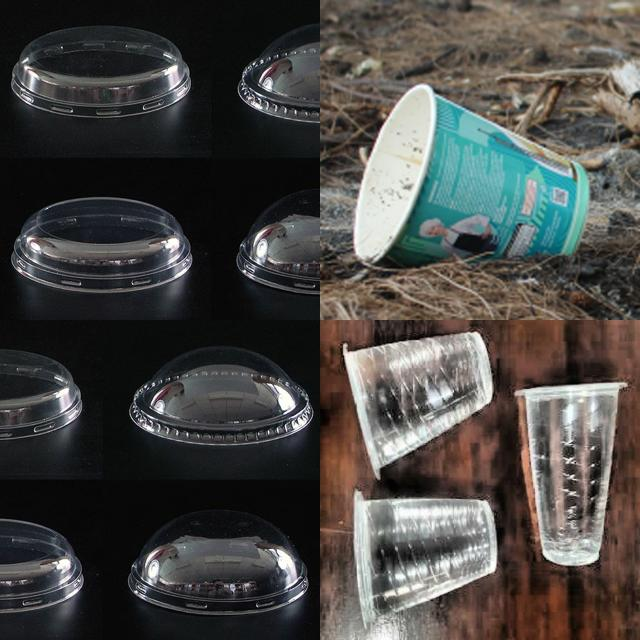Single-Use-Plastic: (354, 85, 589, 266), (342, 331, 492, 479), (516, 382, 625, 564), (354, 491, 496, 627), (129, 510, 309, 615), (130, 346, 314, 445), (11, 198, 192, 292), (11, 26, 191, 118), (236, 189, 320, 294), (238, 24, 320, 122), (0, 519, 84, 612), (0, 350, 82, 439)
